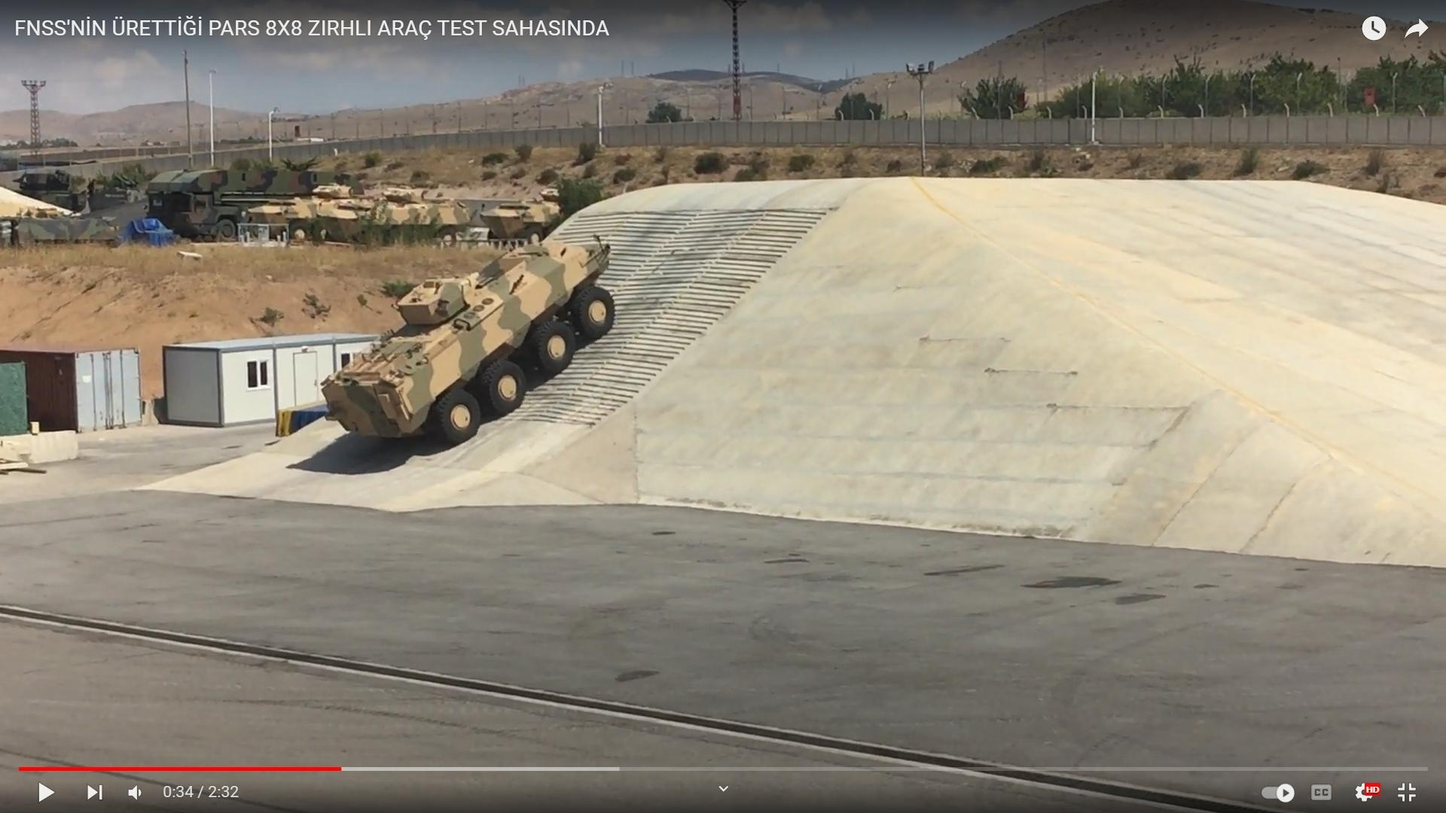armored_car: (317, 238, 619, 445)
